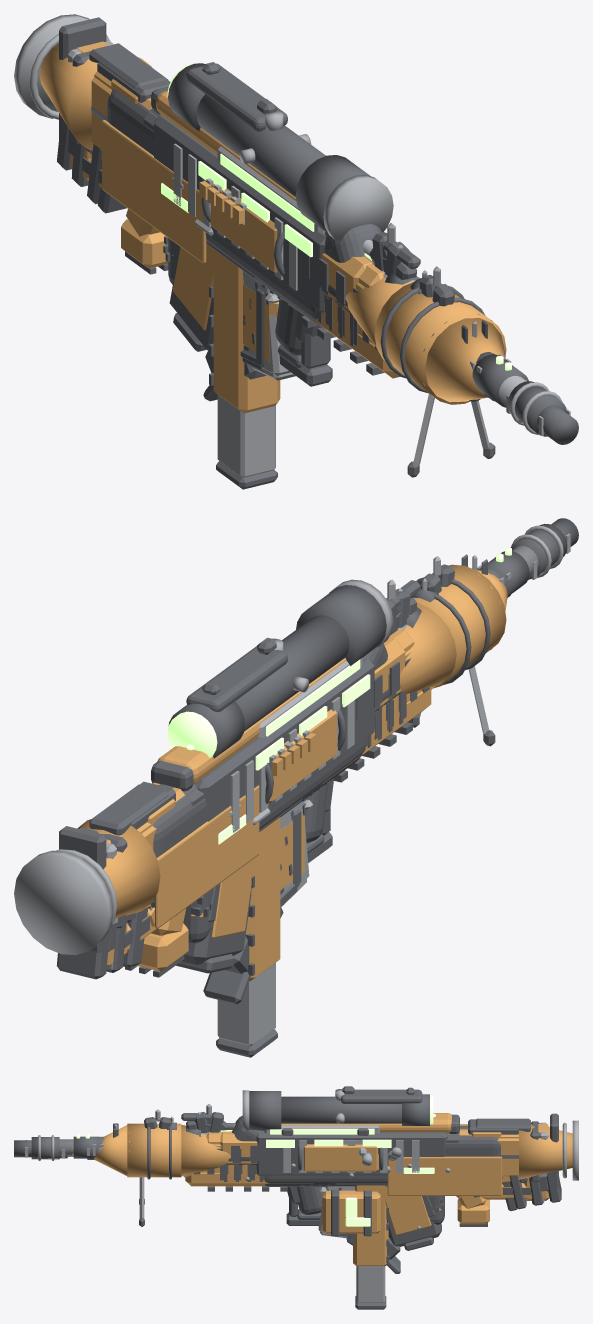
File: weapons_authored.glb
The picture shows the model from 3 angles, top to bottom: view 1: azimuth 30°, elevation 25°; view 2: azimuth 150°, elevation 25°; view 3: azimuth 270°, elevation 25°; orthographic projection. The views are drawn at different scales.
Parts seen in each view (by area): view 1: weapon_uzi, weapon_rpg, weapon_boltsniper, weapon_needler, weapon_lmg, weapon_m4, weapon_magnum, weapon_dmr, weapon_rifle, weapon_fuelrod, weapon_energyshotgun, weapon_m16 (+1 smaller); view 2: weapon_rpg, weapon_uzi, weapon_needler, weapon_boltsniper, weapon_lmg, weapon_m4, weapon_magnum, weapon_rifle, weapon_fuelrod, weapon_dmr, weapon_energyshotgun, weapon_m16; view 3: weapon_needler, weapon_rpg, weapon_uzi, weapon_boltsniper, weapon_lmg, weapon_m4, weapon_magnum, weapon_rifle, weapon_fuelrod, weapon_dmr, weapon_energyshotgun, weapon_m16 (+1 smaller).
Boxes of the visible parts, bbox=[...] form: weapon_uzi: bbox=[121, 115, 334, 489]; weapon_rpg: bbox=[14, 14, 506, 404]; weapon_boltsniper: bbox=[59, 17, 566, 436]; weapon_needler: bbox=[102, 62, 419, 367]; weapon_lmg: bbox=[68, 41, 528, 477]; weapon_m4: bbox=[72, 51, 511, 375]; weapon_magnum: bbox=[169, 244, 289, 351]; weapon_dmr: bbox=[85, 148, 578, 444]; weapon_rifle: bbox=[57, 119, 494, 401]; weapon_fuelrod: bbox=[91, 154, 399, 378]; weapon_energyshotgun: bbox=[87, 144, 503, 364]; weapon_m16: bbox=[71, 142, 522, 423]; weapon_rpg: bbox=[14, 564, 507, 955]; weapon_uzi: bbox=[125, 658, 383, 1057]; weapon_needler: bbox=[148, 607, 421, 943]; weapon_boltsniper: bbox=[59, 524, 567, 967]; weapon_lmg: bbox=[106, 551, 529, 924]; weapon_m4: bbox=[79, 565, 511, 928]; weapon_magnum: bbox=[176, 781, 329, 973]; weapon_rifle: bbox=[56, 554, 510, 1004]; weapon_fuelrod: bbox=[127, 685, 431, 924]; weapon_dmr: bbox=[127, 518, 578, 922]; weapon_energyshotgun: bbox=[123, 553, 503, 967]; weapon_m16: bbox=[106, 560, 543, 972]; weapon_needler: bbox=[186, 1086, 502, 1224]; weapon_rpg: bbox=[94, 1120, 578, 1204]; weapon_uzi: bbox=[245, 1132, 489, 1309]; weapon_boltsniper: bbox=[31, 1089, 558, 1200]; weapon_lmg: bbox=[73, 1113, 548, 1236]; weapon_m4: bbox=[92, 1104, 541, 1234]; weapon_magnum: bbox=[301, 1185, 441, 1250]; weapon_rifle: bbox=[87, 1123, 561, 1273]; weapon_fuelrod: bbox=[185, 1157, 524, 1198]; weapon_dmr: bbox=[14, 1109, 527, 1238]; weapon_energyshotgun: bbox=[85, 1134, 526, 1209]; weapon_m16: bbox=[47, 1112, 544, 1205].
Bounding box in the file's own units: 0.1491 × 0.5795 × 1.36.
